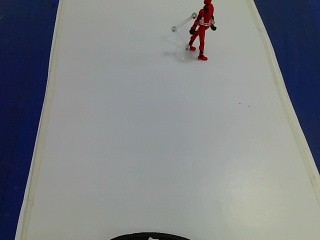pedestrian: (187, 0, 219, 70)
